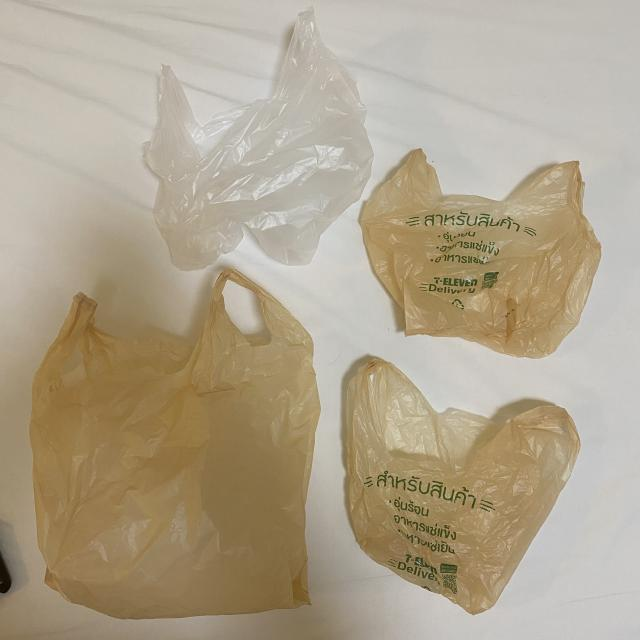Single-layer Plastic: (30, 269, 320, 619), (145, 8, 372, 270), (348, 359, 580, 614), (361, 150, 600, 359)
